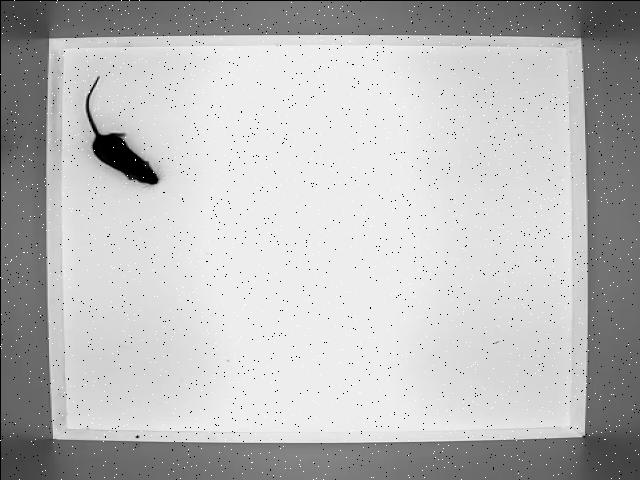Tikus: (80, 70, 162, 188)
